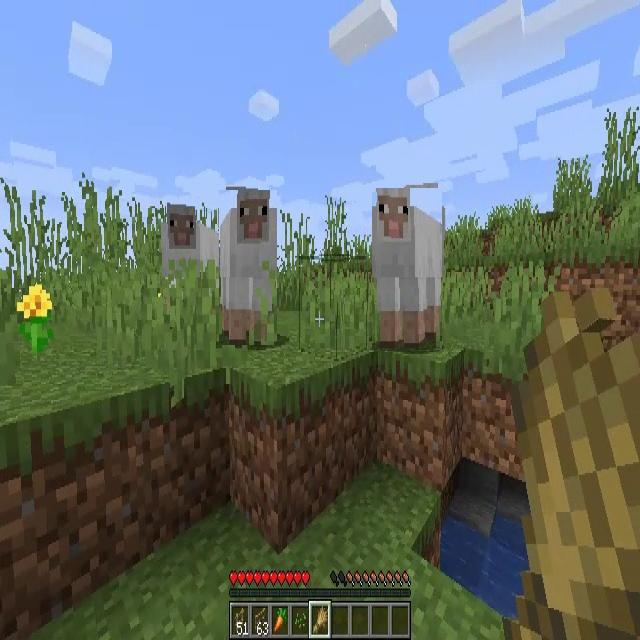flower: (17, 285, 54, 359)
sheep: (372, 188, 442, 351), (219, 190, 277, 345), (162, 202, 218, 338)
